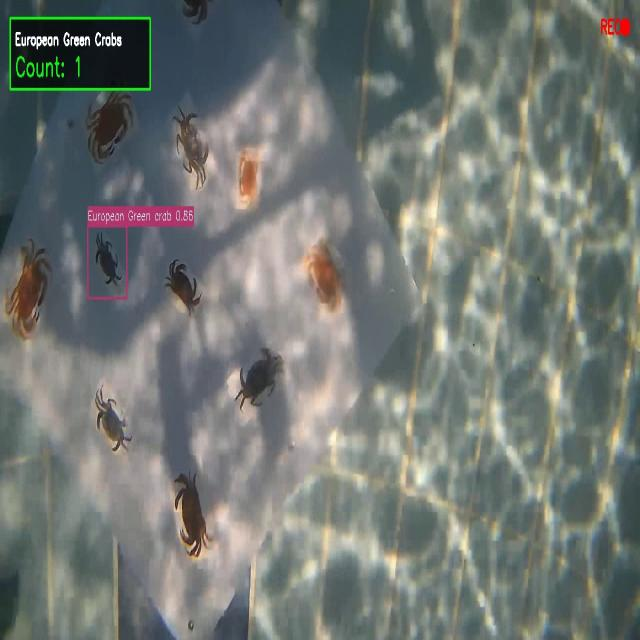European_Green_Crab: (229, 330, 290, 434), (168, 100, 220, 200), (88, 374, 137, 465), (85, 221, 129, 304)
